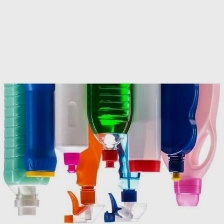cleaning_solution: (156, 40, 220, 209), (1, 49, 52, 217), (101, 61, 149, 223), (61, 62, 109, 223), (81, 37, 135, 169), (153, 39, 201, 185), (20, 33, 58, 179), (52, 36, 90, 176), (125, 39, 162, 174)
